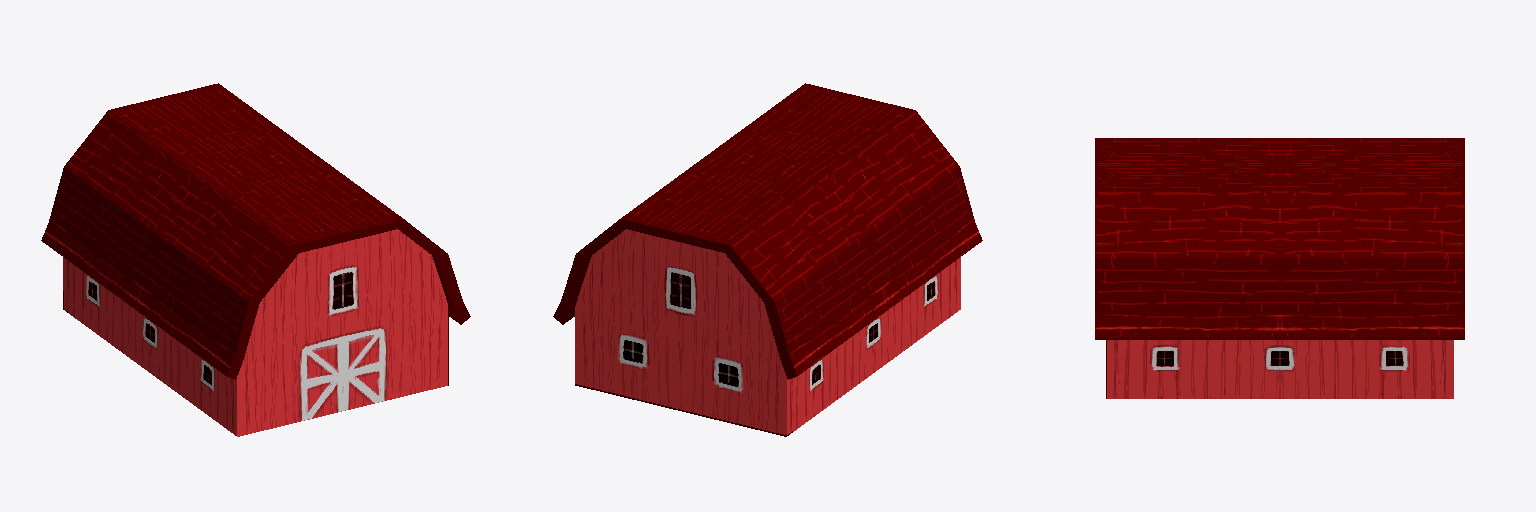
The picture shows the model from 3 angles: view 1: azimuth 30°, elevation 25°; view 2: azimuth 150°, elevation 25°; view 3: azimuth 270°, elevation 25°; orthographic projection.
Visible parts, largest first — view 1: Barn_Cube; view 2: Barn_Cube; view 3: Barn_Cube.
Boxes of the visible parts, <box> form: Barn_Cube: <box>41,83,470,436</box>; Barn_Cube: <box>553,83,982,436</box>; Barn_Cube: <box>1095,138,1464,398</box>.
Bounding box in the file's own units: 3.24 × 2.32 × 4.25.
1 materials, 1 textured.